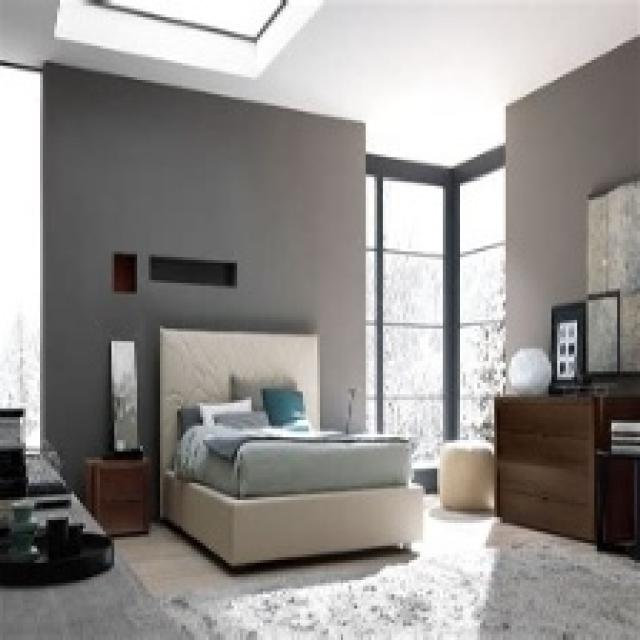Bed: (157, 326, 423, 571)
